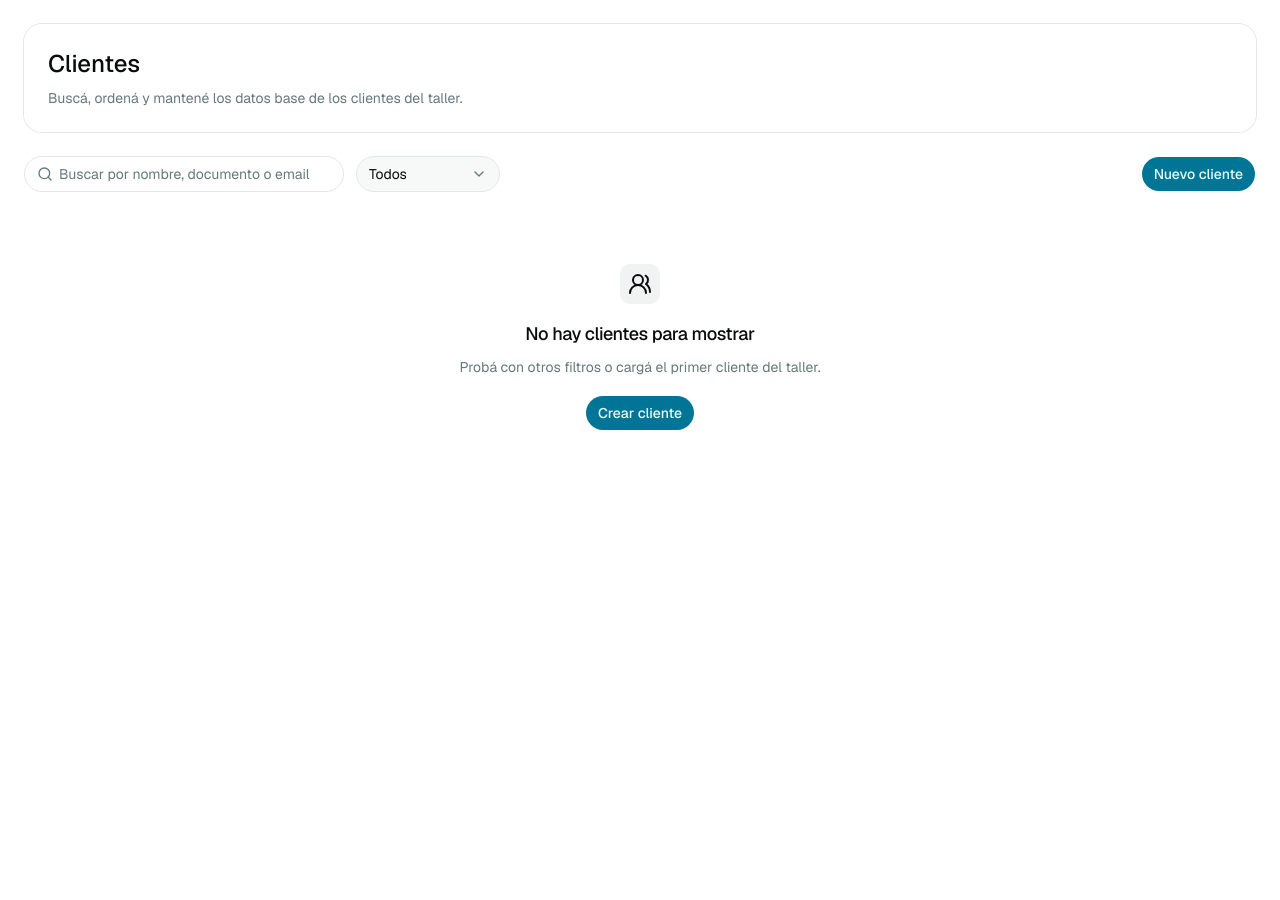
CustomersPage › shows empty state and keeps invalid create dialog open
This screenshot has width=1280, height=900.
Expected: the text "No hay clientes para mostrar" is shown, 525,320 -> 755,348
Click the button "Crear cliente" at (640, 413), box 585,395 -> 695,431
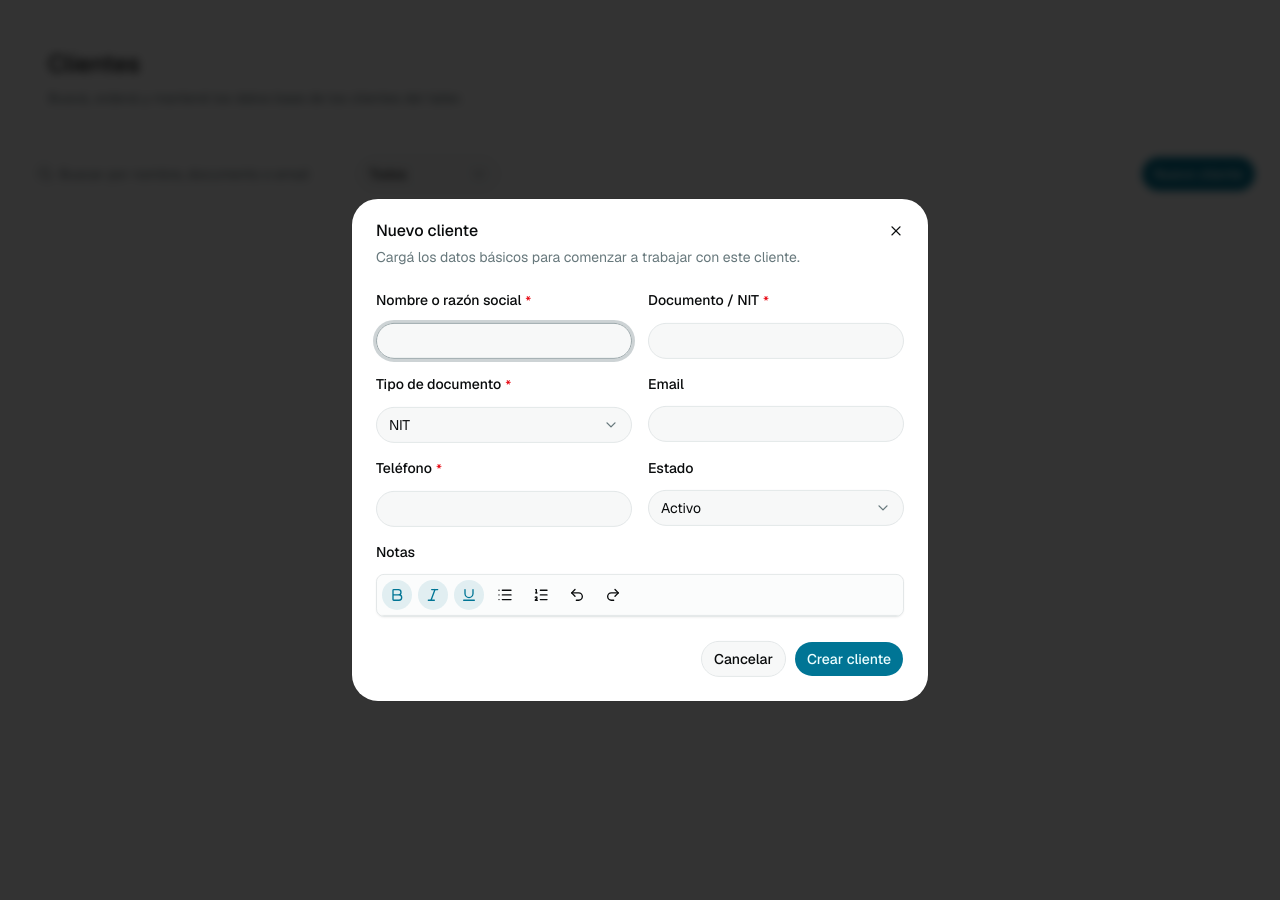
Click the button "Crear cliente" at (849, 659), box 794,641 -> 904,677
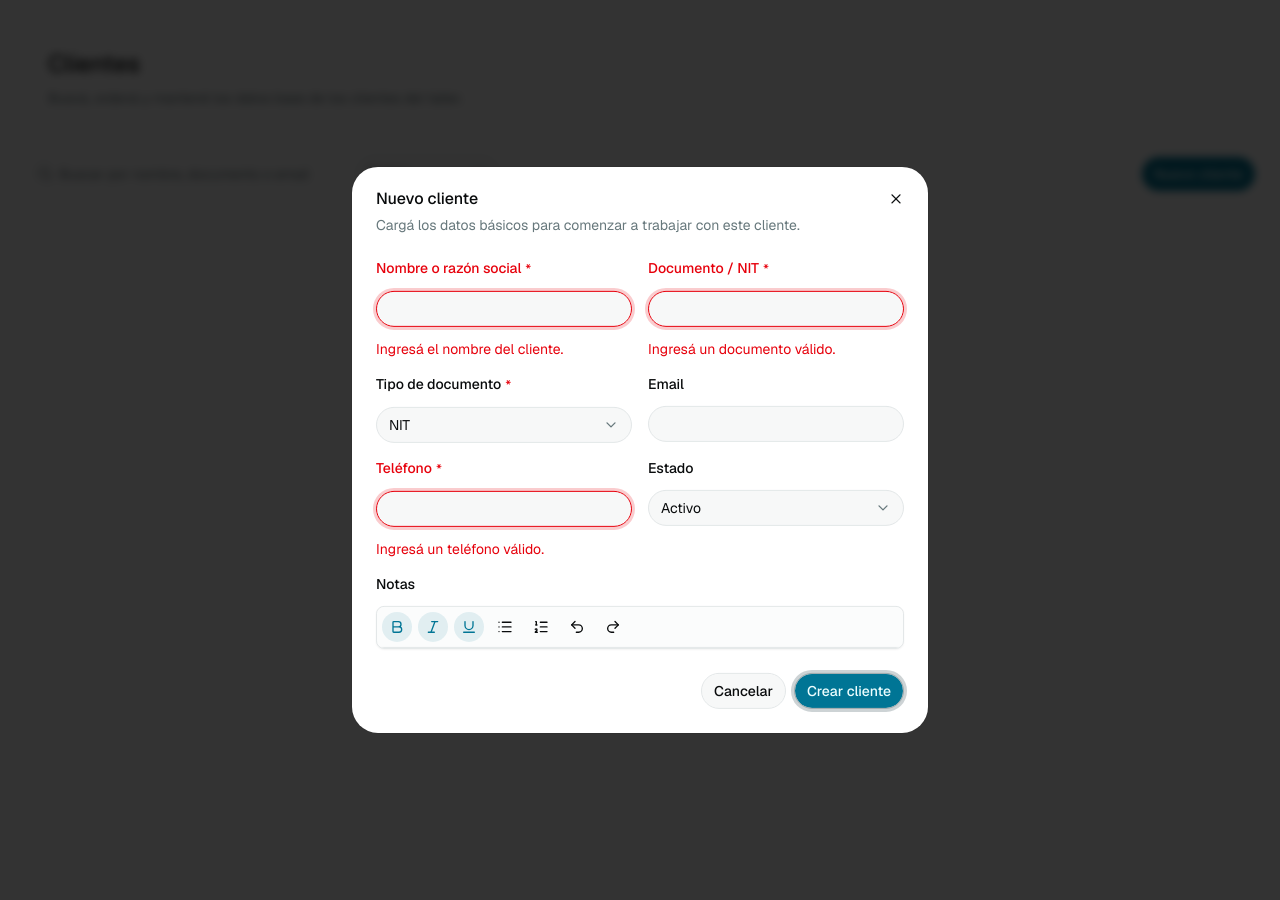
Expected: the text "Ingresá el nombre del cliente." is shown, 376,340 -> 563,358
